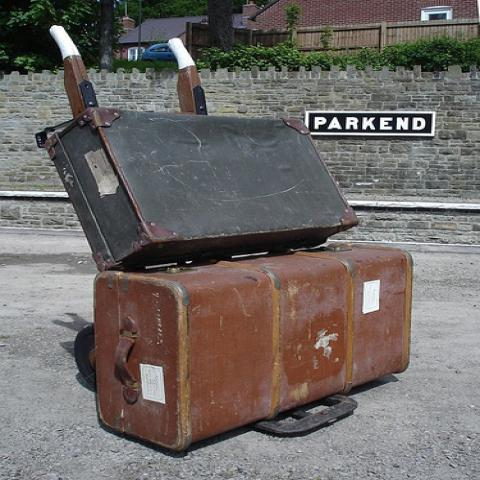car: (140, 43, 176, 61)
